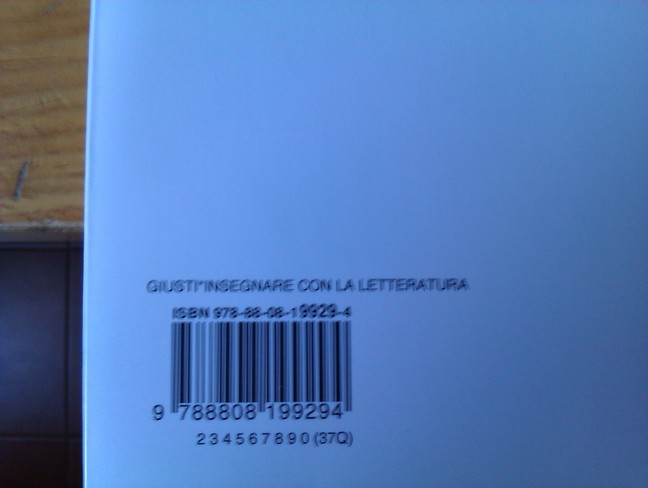detection: (136, 320, 378, 423)
